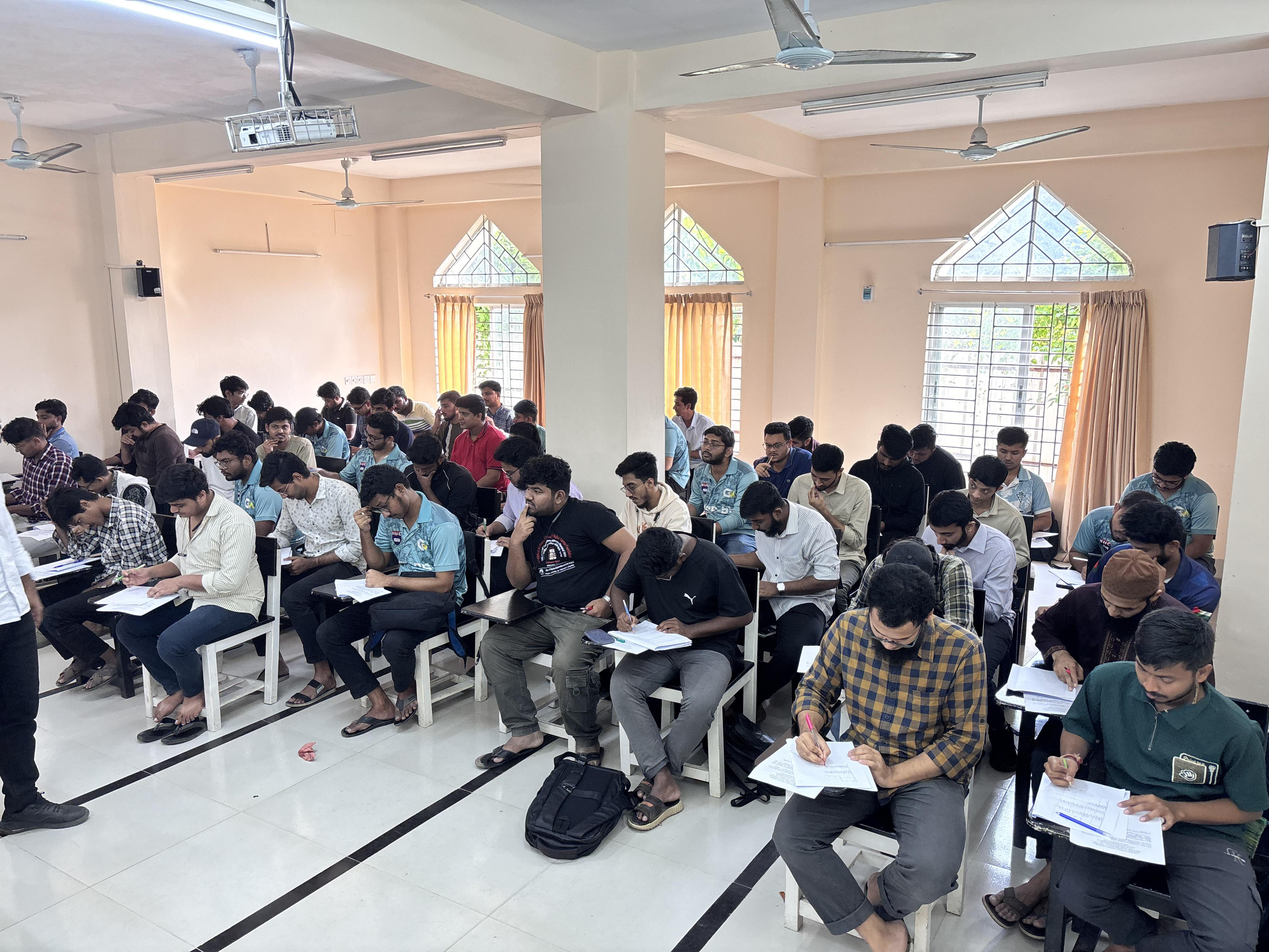copying: (487, 436, 530, 510), (216, 372, 255, 413)
no_cheating: (787, 560, 979, 826), (1042, 612, 1242, 863), (327, 467, 458, 696), (136, 462, 254, 696), (607, 525, 729, 734), (515, 460, 608, 668), (33, 487, 134, 598), (261, 451, 350, 574), (1077, 549, 1173, 649), (734, 480, 809, 590), (688, 420, 754, 523), (921, 488, 989, 567), (1141, 439, 1211, 512), (5, 419, 65, 500), (1124, 497, 1184, 566), (800, 443, 858, 507), (613, 449, 663, 522), (963, 453, 1017, 515), (869, 423, 911, 494), (404, 431, 450, 495), (992, 422, 1042, 477), (108, 402, 153, 462), (454, 396, 495, 458), (211, 431, 252, 489), (907, 411, 945, 473), (182, 415, 228, 466), (757, 421, 800, 474), (263, 411, 310, 457), (294, 401, 340, 448), (31, 394, 79, 438), (361, 413, 398, 462), (671, 383, 701, 428), (434, 389, 463, 434), (477, 378, 511, 415), (368, 386, 397, 415), (345, 385, 371, 414), (315, 378, 338, 409), (513, 398, 537, 427)
